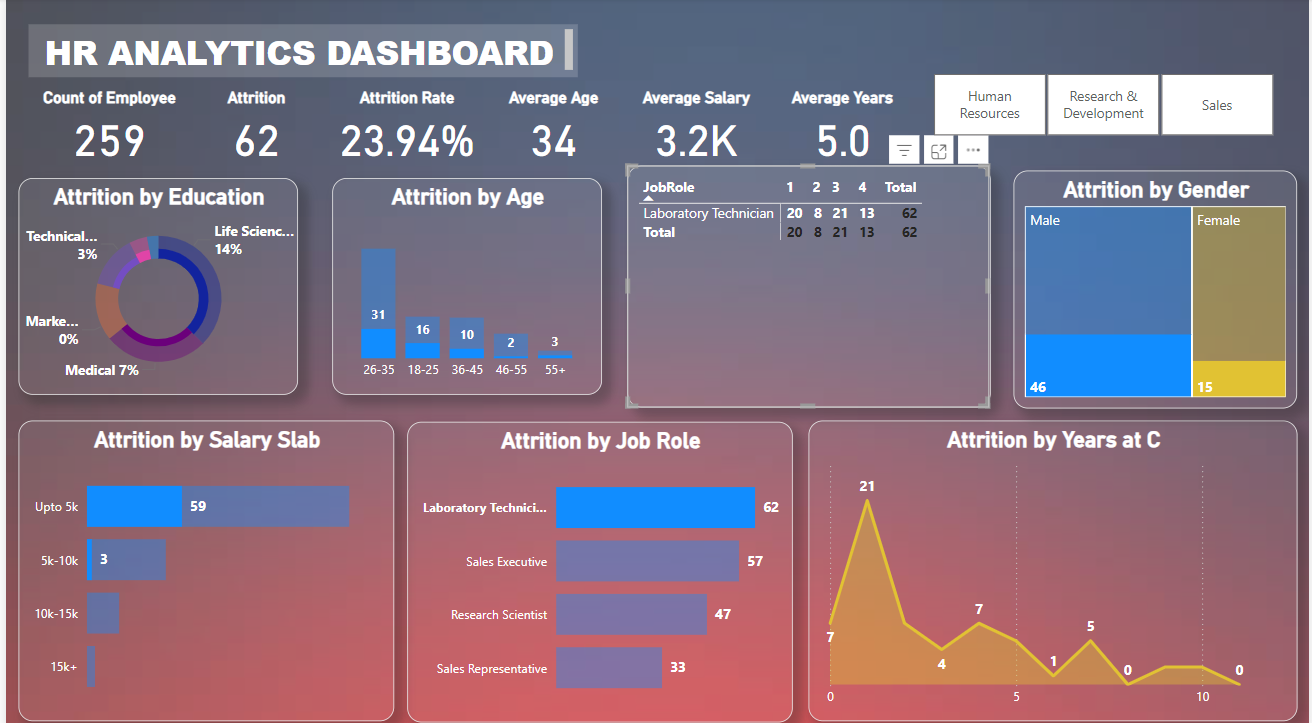

Layout of this report page (visuals, bound fields, positions):
{"tool":"powerbi","page":{"name":"Page 1","canvas":[1280,720],"ordinal":0},"visuals":[{"type":"card","title":"Count of Employee","fields":{"Values":["CountNonNull(HR_Analytics.EmpID)"]},"box":[22,87.8,159.2,76.8],"z":0},{"type":"card","title":"Attrition","fields":{"Values":["Sum(HR_Analytics.AttritionCount)"]},"box":[171.5,87.8,148.2,76.8],"z":1000},{"type":"card","title":"Average Age","fields":{"Values":["Avg(HR_Analytics.Age)"]},"box":[466.6,87.8,142.7,76.8],"z":3000},{"type":"card","title":"Attrition Rate","fields":{"Values":["HR_Analytics.AttritionRate"]},"box":[319.7,87.8,146.8,76.8],"z":3001},{"type":"card","title":"Average Years","fields":{"Values":["Avg(HR_Analytics.YearsAtCompany)"]},"box":[745.1,87.8,152.3,76.8],"z":3002},{"type":"card","title":"Average Salary","fields":{"Values":["Avg(HR_Analytics.MonthlyIncome)"]},"box":[609.3,87.8,135.8,76.8],"z":3003},{"type":"donutChart","title":"Attrition by Education","fields":{"Category":["HR_Analytics.EducationField"],"Y":["Sum(HR_Analytics.AttritionCount)"]},"box":[12.3,177,274.4,212.7],"z":3004},{"type":"columnChart","title":"Attrition by Age","fields":{"Category":["HR_Analytics.AgeGroup"],"Y":["Sum(HR_Analytics.AttritionCount)"]},"box":[319.7,177,264.8,212.7],"z":3005},{"type":"pivotTable","fields":{"Values":["Sum(HR_Analytics.AttritionCount)"],"Rows":["HR_Analytics.JobRole"],"Columns":["HR_Analytics.JobSatisfaction"]},"box":[609.3,164.7,356.8,237.4],"z":3006},{"type":"barChart","title":"Attrition by Salary Slab","fields":{"Category":["HR_Analytics.SalarySlab"],"Y":["Sum(HR_Analytics.AttritionCount)"]},"box":[12.3,414.4,369.1,295],"z":3007},{"type":"barChart","title":"Attrition by Job Role","fields":{"Category":["HR_Analytics.JobRole"],"Y":["Sum(HR_Analytics.AttritionCount)"]},"box":[393.8,415.8,378.7,295],"z":3008},{"type":"areaChart","title":"Attrition by Years at C","fields":{"Category":["HR_Analytics.YearsAtCompany"],"Y":["Sum(HR_Analytics.AttritionCount)"]},"box":[787.7,414.4,480.3,295],"z":3009},{"type":"treemap","title":"Attrition by Gender","fields":{"Group":["HR_Analytics.Gender"],"Values":["Sum(HR_Analytics.AttritionCount)"]},"box":[989.4,168.8,278.6,233.3],"z":3010},{"type":"slicer","fields":{"Values":["HR_Analytics.Department"]},"box":[885.1,67.2,382.8,74.1],"z":3011},{"type":"textbox","box":[22,26.1,539.3,52.1],"z":3012}]}

Visuals, with their boxes in screenshot pixels (x1, y1, x2, y2), scaled from the page's 1280x720 canvas onto the 1312x723 screenshot:
"Count of Employee" card: <region>23, 88, 186, 165</region>
"Attrition" card: <region>176, 88, 328, 165</region>
"Average Age" card: <region>478, 88, 625, 165</region>
"Attrition Rate" card: <region>328, 88, 478, 165</region>
"Average Years" card: <region>764, 88, 920, 165</region>
"Average Salary" card: <region>625, 88, 764, 165</region>
"Attrition by Education" donutChart: <region>13, 178, 294, 391</region>
"Attrition by Age" columnChart: <region>328, 178, 599, 391</region>
pivotTable - Sum(HR_Analytics.AttritionCount) x HR_Analytics.JobRole: <region>625, 165, 990, 404</region>
"Attrition by Salary Slab" barChart: <region>13, 416, 391, 712</region>
"Attrition by Job Role" barChart: <region>404, 418, 792, 714</region>
"Attrition by Years at C" areaChart: <region>807, 416, 1300, 712</region>
"Attrition by Gender" treemap: <region>1014, 170, 1300, 404</region>
slicer - HR_Analytics.Department: <region>907, 67, 1300, 142</region>
textbox: <region>23, 26, 575, 79</region>
